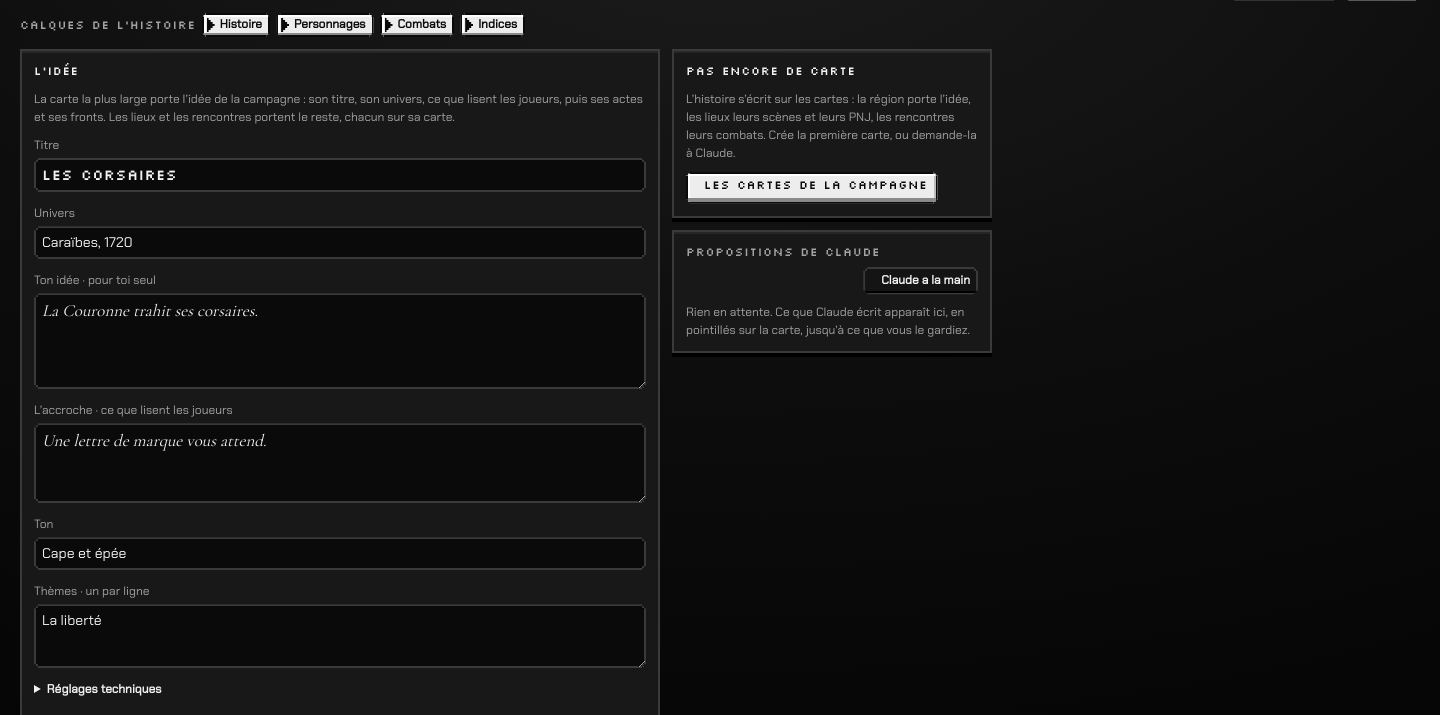
Test case: entering a campaign (campaign/write-story-by-map-scale) › shows « L’idée » alone for a campaign with no map, and the way to its maps
Expected: the element "Pas encore de carte" is shown, [672,49,992,218]
Click the button "Les cartes de la campagne" at (812, 188), box [686,172,938,204]
(page scrolled)
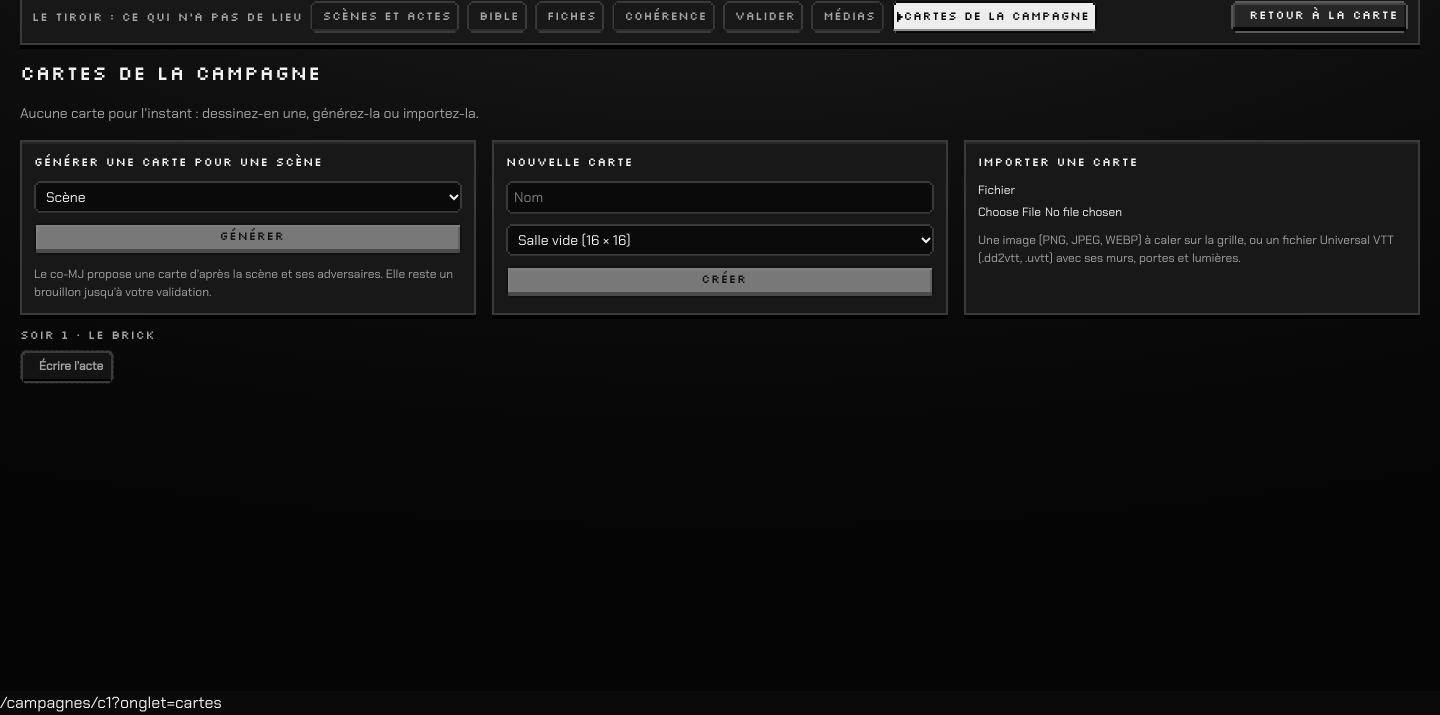
Result: the text named "adresse" reads "/campagnes/c1?onglet=cartes" at [0,692,222,713]
